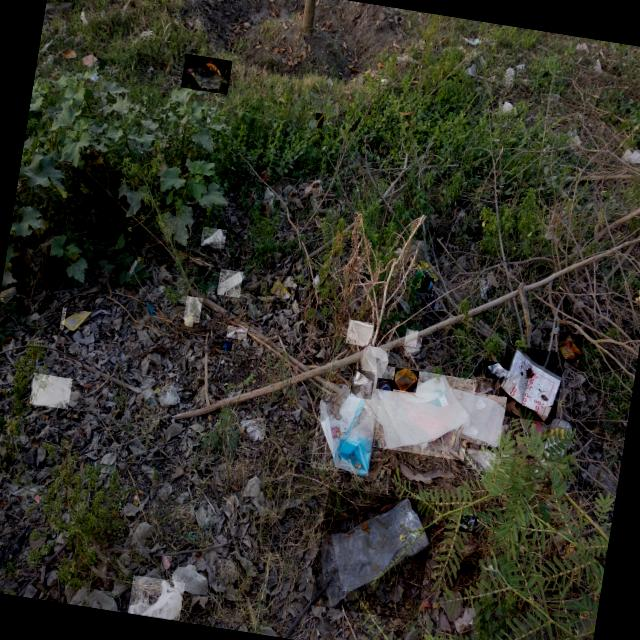Lid: (310, 120, 317, 132)
Other container: (347, 320, 373, 347)
Other plastic: (60, 312, 90, 332), (558, 333, 580, 359), (241, 418, 264, 441), (269, 279, 290, 300), (226, 329, 247, 338), (221, 342, 232, 351), (185, 315, 193, 326)
Paper bag: (500, 346, 561, 422)
Plastic film: (320, 498, 429, 608), (364, 376, 469, 449), (319, 386, 374, 475), (451, 389, 505, 447), (128, 580, 182, 620), (542, 419, 572, 461), (362, 348, 388, 393), (31, 376, 70, 405), (468, 450, 496, 472), (351, 370, 372, 399), (392, 370, 417, 391), (622, 148, 640, 164), (377, 379, 393, 391)
Straw: (63, 310, 101, 334), (314, 114, 324, 128)
Styrofoam piece: (211, 558, 241, 588), (217, 272, 242, 295), (184, 297, 201, 321), (201, 229, 225, 245), (404, 339, 422, 357)
Unlabeled litter: (183, 58, 229, 91), (487, 363, 507, 380), (459, 515, 475, 533), (405, 329, 416, 346), (420, 279, 432, 293), (162, 557, 171, 569), (145, 303, 153, 316)
